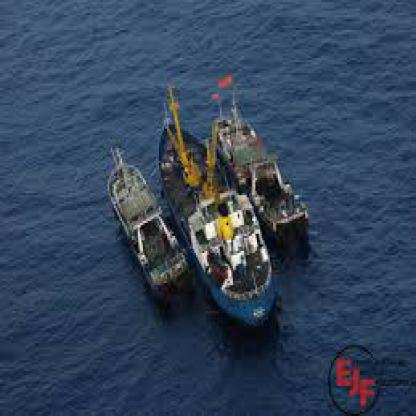fish-b: (152, 103, 286, 334), (209, 84, 323, 264), (98, 124, 194, 296)
